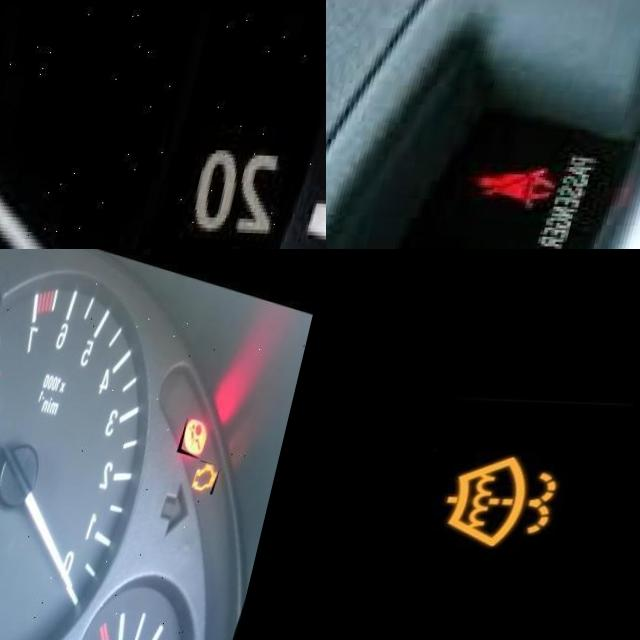Seat Belt: (490, 160, 576, 205)
Washer Fluid: (453, 452, 581, 545)
